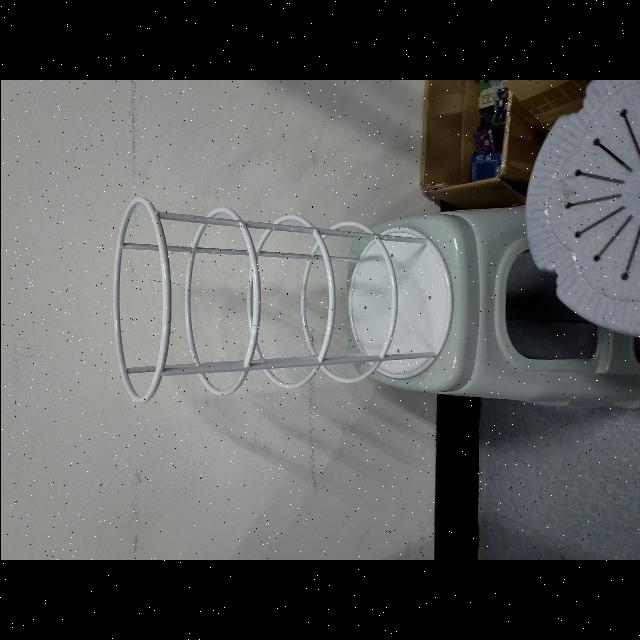S: (106, 191, 456, 407)
